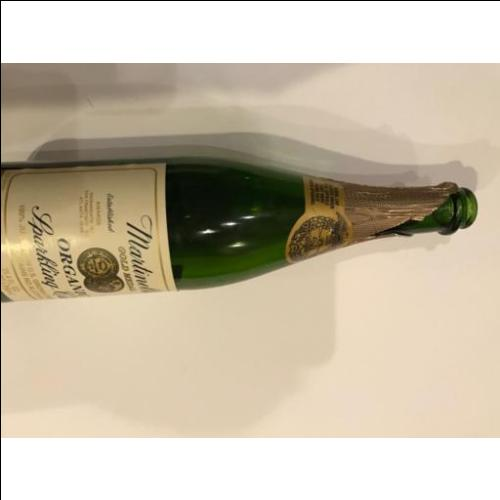glass: (0, 166, 477, 293)
